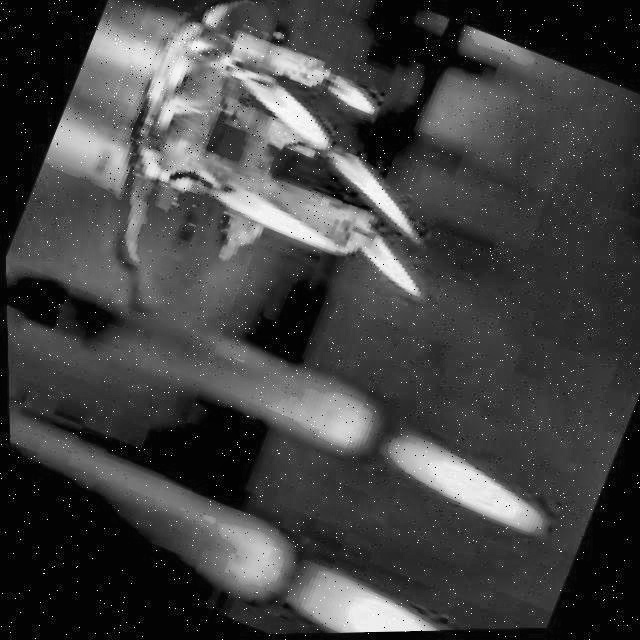Fire: (334, 398, 572, 553), (276, 129, 454, 240), (275, 553, 479, 635), (202, 174, 351, 266), (222, 59, 342, 144), (339, 226, 453, 306), (311, 63, 387, 126)
